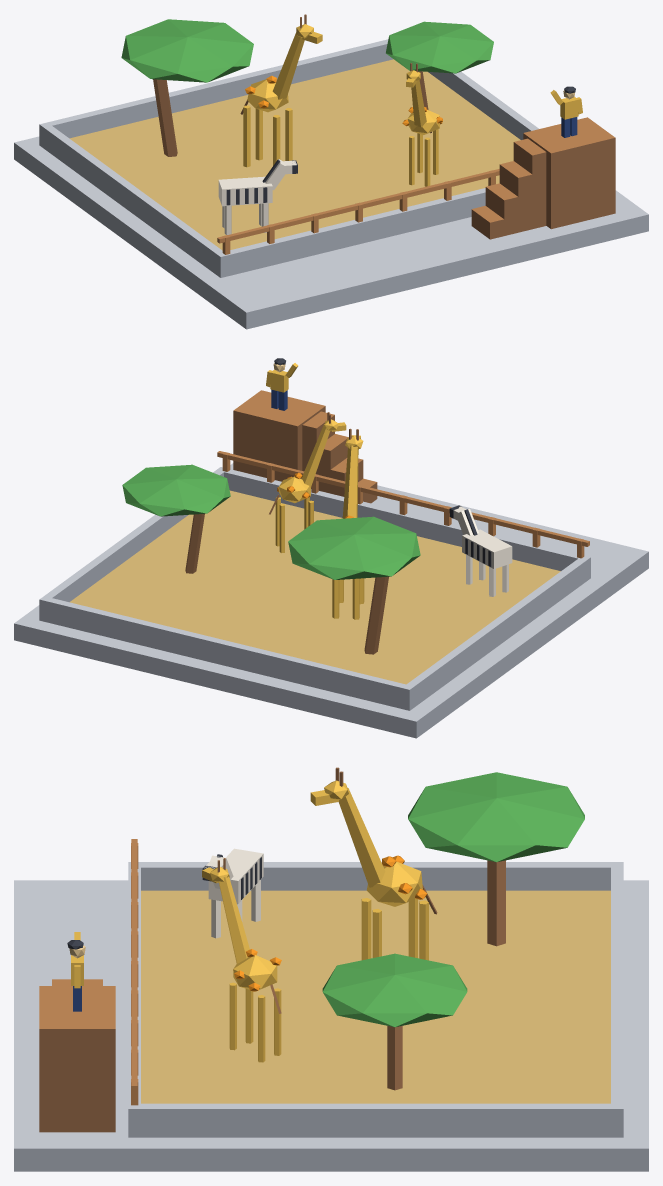
File: zoo_giraffe.glb
The picture shows the model from 3 angles, top to bottom: view 1: azimuth 30°, elevation 25°; view 2: azimuth 150°, elevation 25°; view 3: azimuth 270°, elevation 25°; orthographic projection. The views are drawn at different scales.
Visible parts, largest first — view 1: zoo_giraffe; view 2: zoo_giraffe; view 3: zoo_giraffe.
Part boxes in pixels (x1,y1,x2,y2): zoo_giraffe: (14,14,648,329); zoo_giraffe: (14,358,648,738); zoo_giraffe: (14,767,648,1171).
Size of the model in its own units: 1 by 0.435 by 1.
